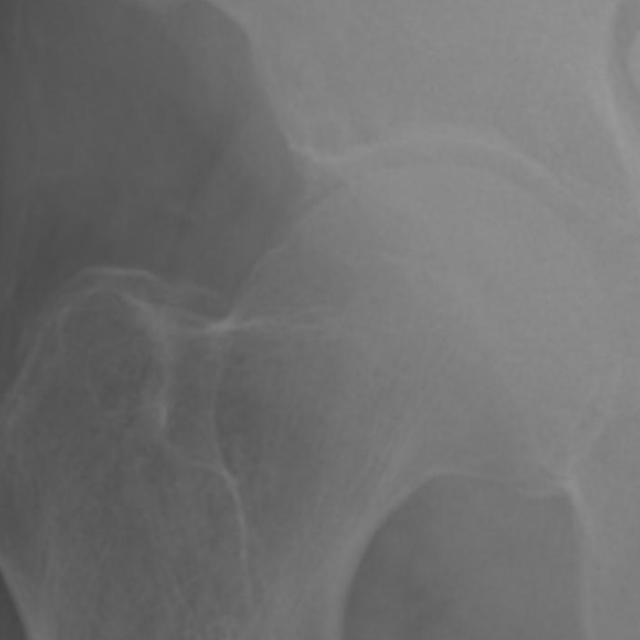Fitted_femural_head: (363, 164, 432, 363)
